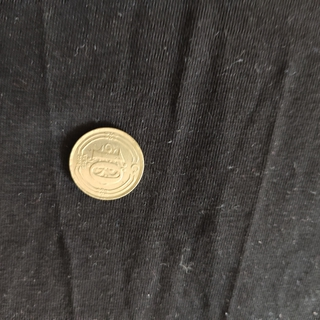10KURUS: (67, 125, 147, 201)
